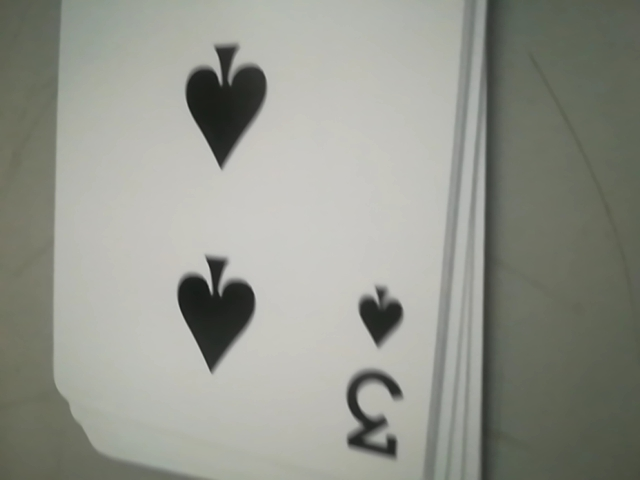ht 3: (342, 281, 419, 473)
